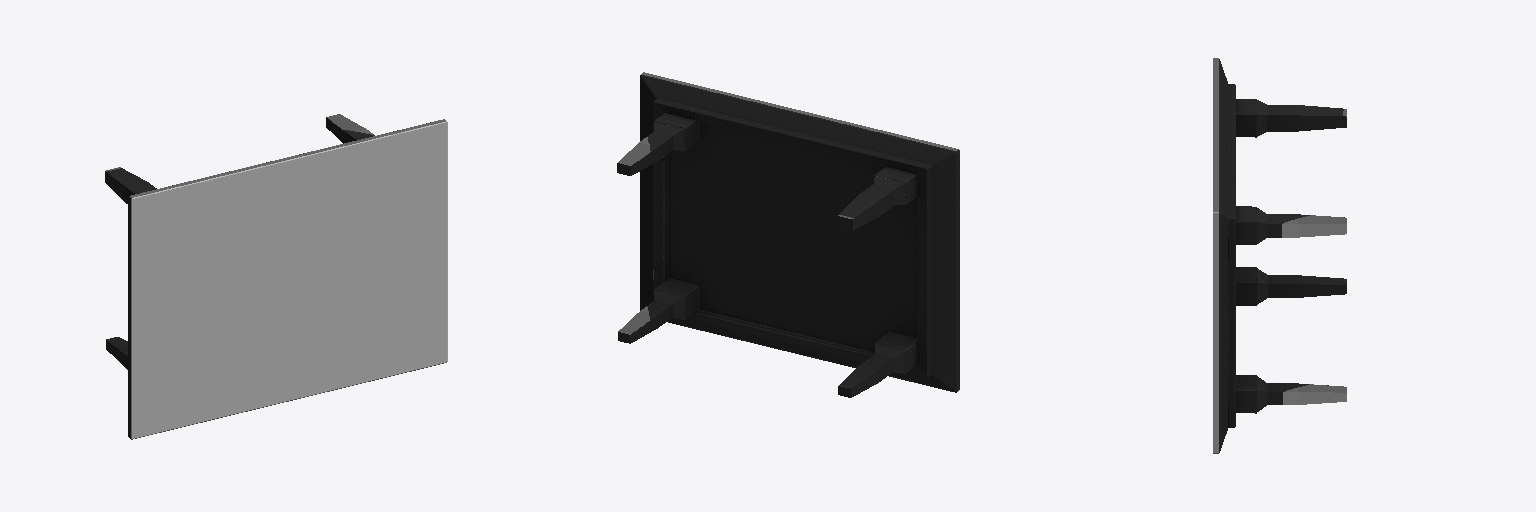
3 views of the same model, side by side, from view 1: azimuth 30°, elevation 25°; view 2: azimuth 150°, elevation 25°; view 3: azimuth 270°, elevation 25° (orthographic).
Bounding box in the file's own units: 10.45 × 7.61 × 3.85.
Materials: 1 (1 with a texture image).